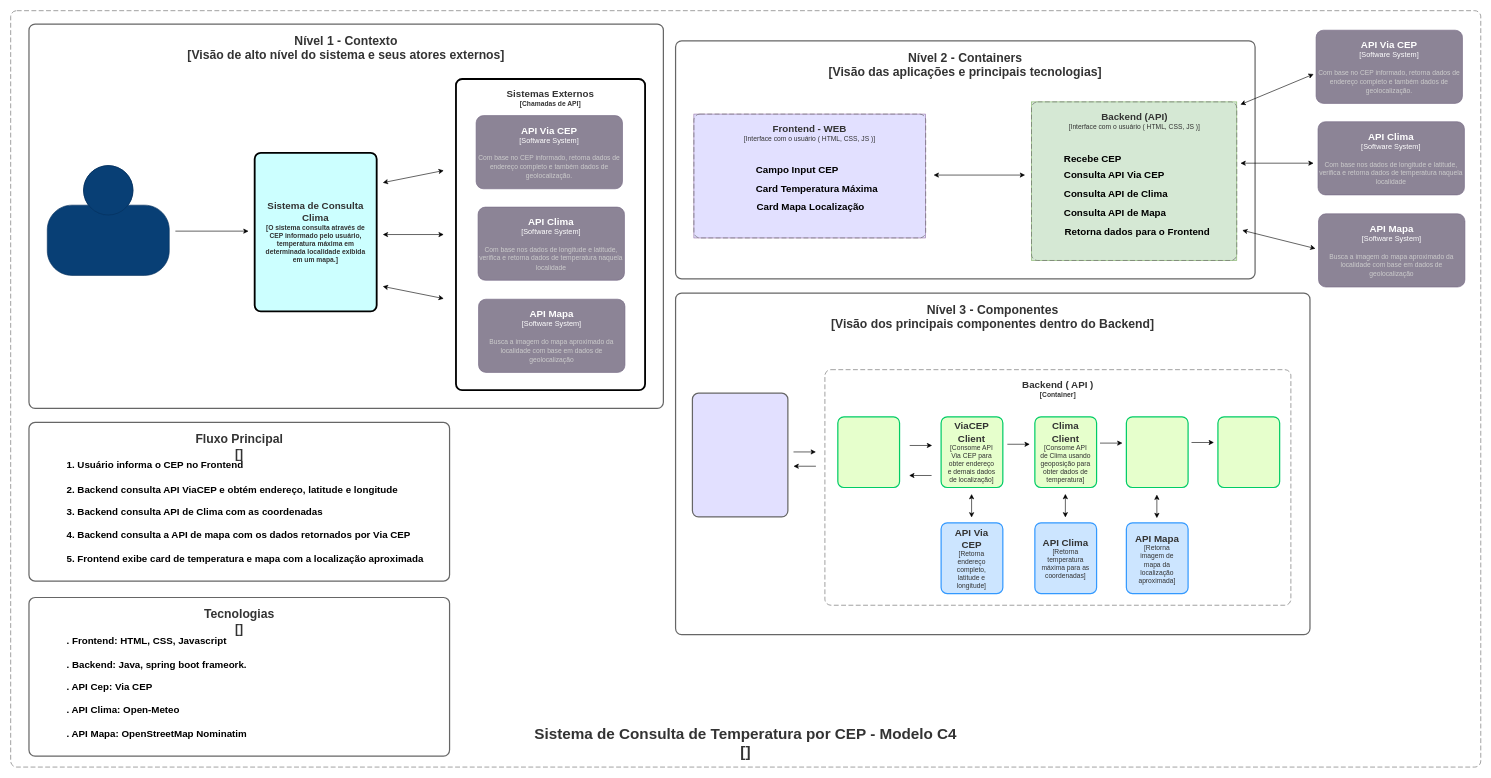
Image size: 1491x778. Some labels were removed from this diagram. The shapes that lost their labels are listed below. From the top down, each one's centre as x and y in pixels, then its label:
At (x=108, y=220): "Usuário [Person] Usuário do sistema".
At (x=739, y=454): "Frontend (WEB ) [Envia CEP]".
At (x=868, y=452): "CEP Controller [Recebe o CEP do frontend e orquestra fluxo]".
At (x=1156, y=452): "Mapa Client [Consome API do mapa com dados retornados pela API Via CEP]".
At (x=1248, y=452): "Response Mapper [Organiza e forma os dados para retorno ao frontend]".
